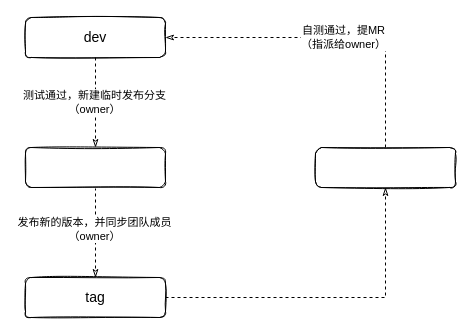
Image size: 473x335. Some labels were removed from this diagram. Here are the shapes that lost their labels. From the top down, the centre of each, then its label:
At point 95,167: "temp_release".
At point 385,167: "feat/hotfix".
